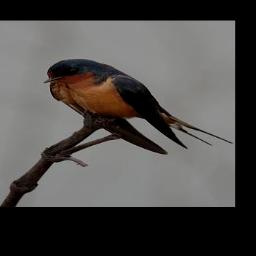Swallow: (41, 58, 230, 154)
